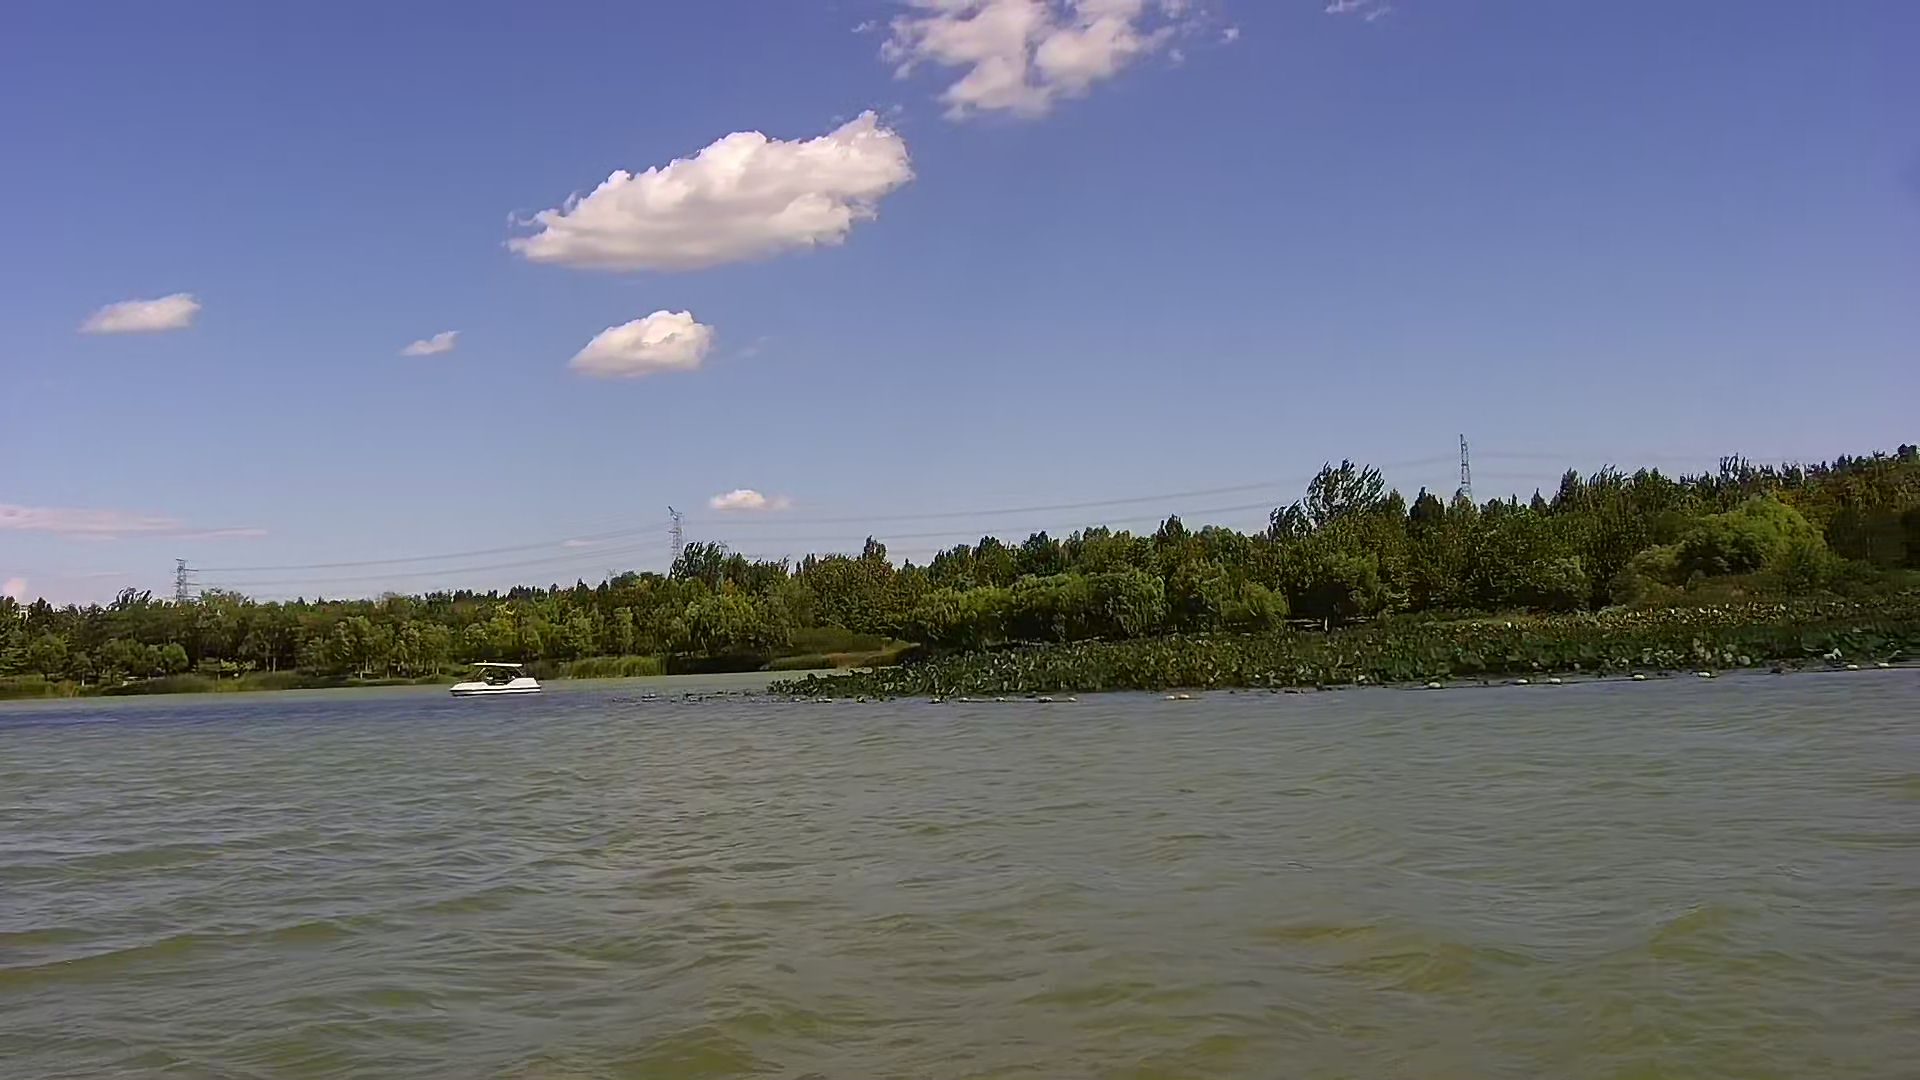boat: (446, 658, 549, 702)
